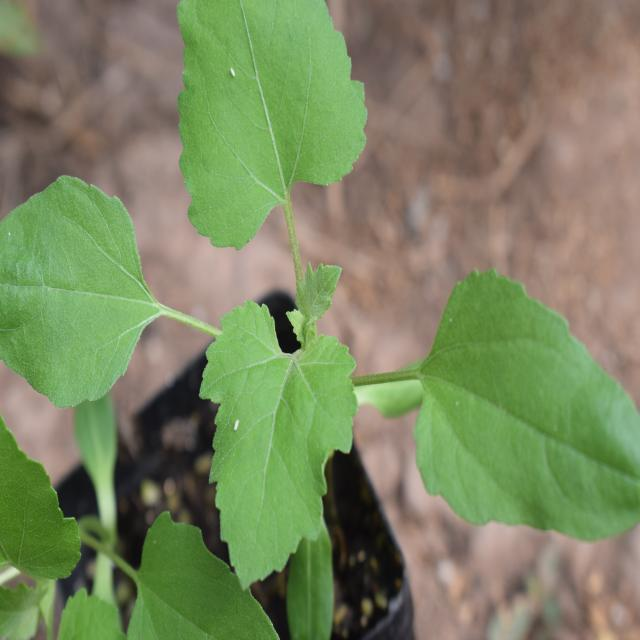cocklebur: (0, 14, 631, 549)
